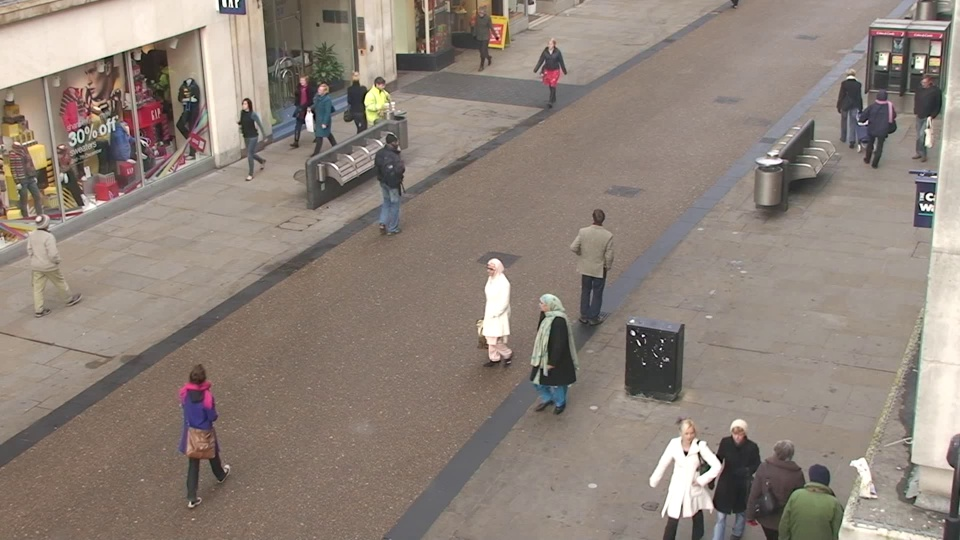pedestrian: (173, 354, 235, 509), (705, 407, 766, 540), (656, 408, 715, 540), (750, 425, 813, 540), (21, 208, 78, 326), (526, 286, 570, 427), (783, 448, 848, 540), (476, 251, 519, 383), (579, 204, 617, 324), (900, 72, 943, 162), (858, 88, 897, 179), (377, 130, 412, 230), (233, 94, 268, 182), (832, 65, 867, 149), (310, 79, 341, 163), (290, 71, 321, 153), (367, 74, 397, 157), (343, 68, 373, 150), (540, 35, 565, 109), (473, 4, 497, 69)
